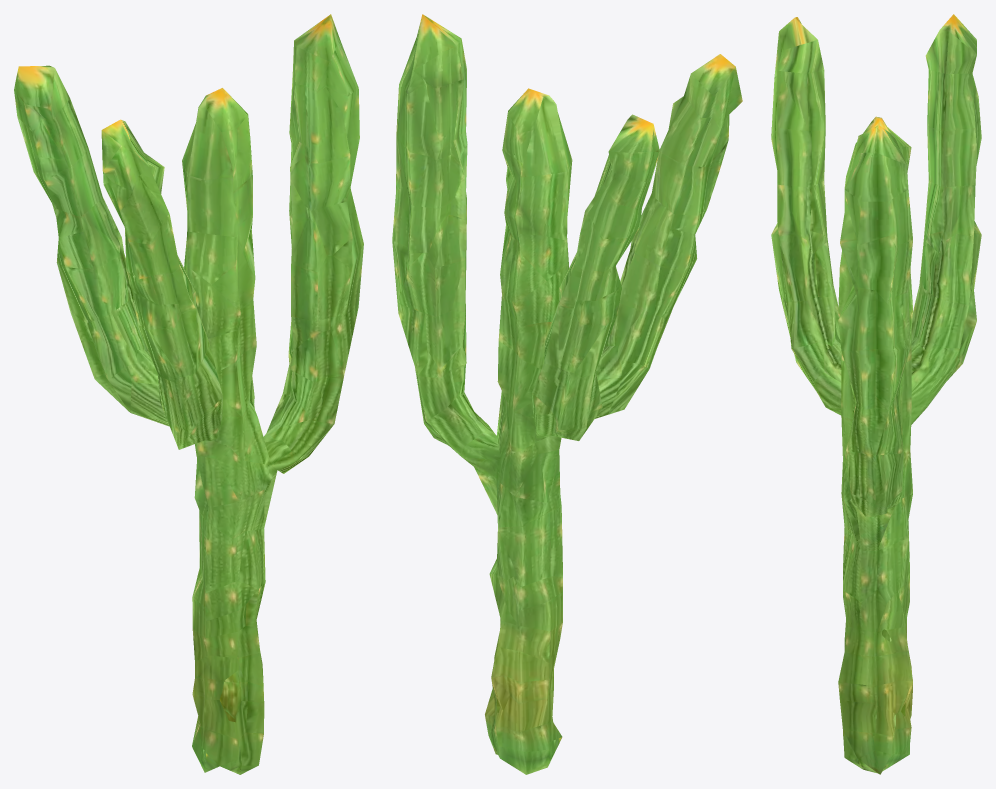
Rendered from cactus.glb.
3 renders of one model, left to right at view 1: azimuth 30°, elevation 25°; view 2: azimuth 150°, elevation 25°; view 3: azimuth 270°, elevation 25°, orthographic. The views are drawn at different scales.
Parts seen in each view (by area): view 1: 0; view 2: 0; view 3: 0.
Boxes of the visible parts, box(x1,y1,x2,y2) form: 0: box(14, 14, 363, 774); 0: box(392, 14, 742, 774); 0: box(771, 14, 981, 774).
Bounding box in the file's own units: 0.8142 × 1.9 × 0.5283.
Materials: 1 (1 with a texture image).
